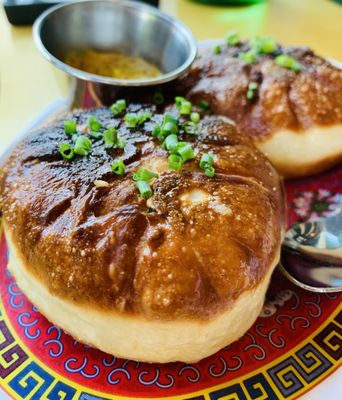soup: (2, 95, 284, 364)
sushi: (31, 0, 199, 92)
